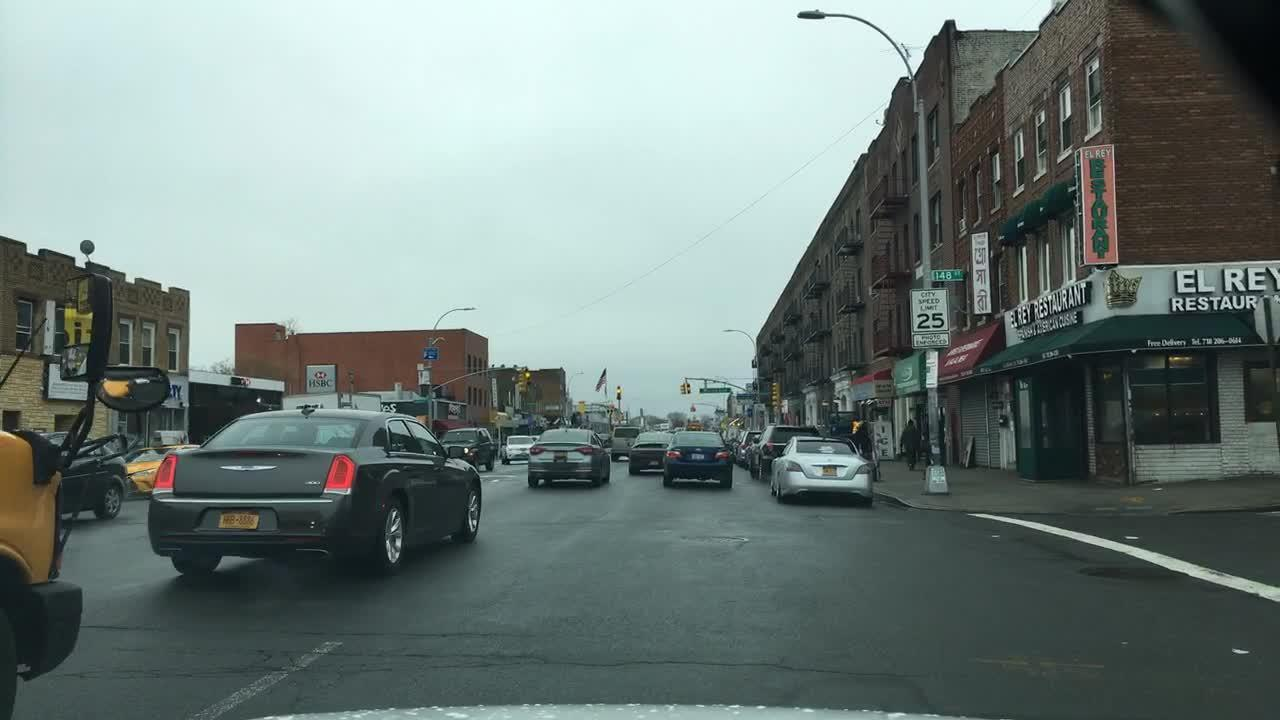Chrysler: (213, 462, 286, 476)
